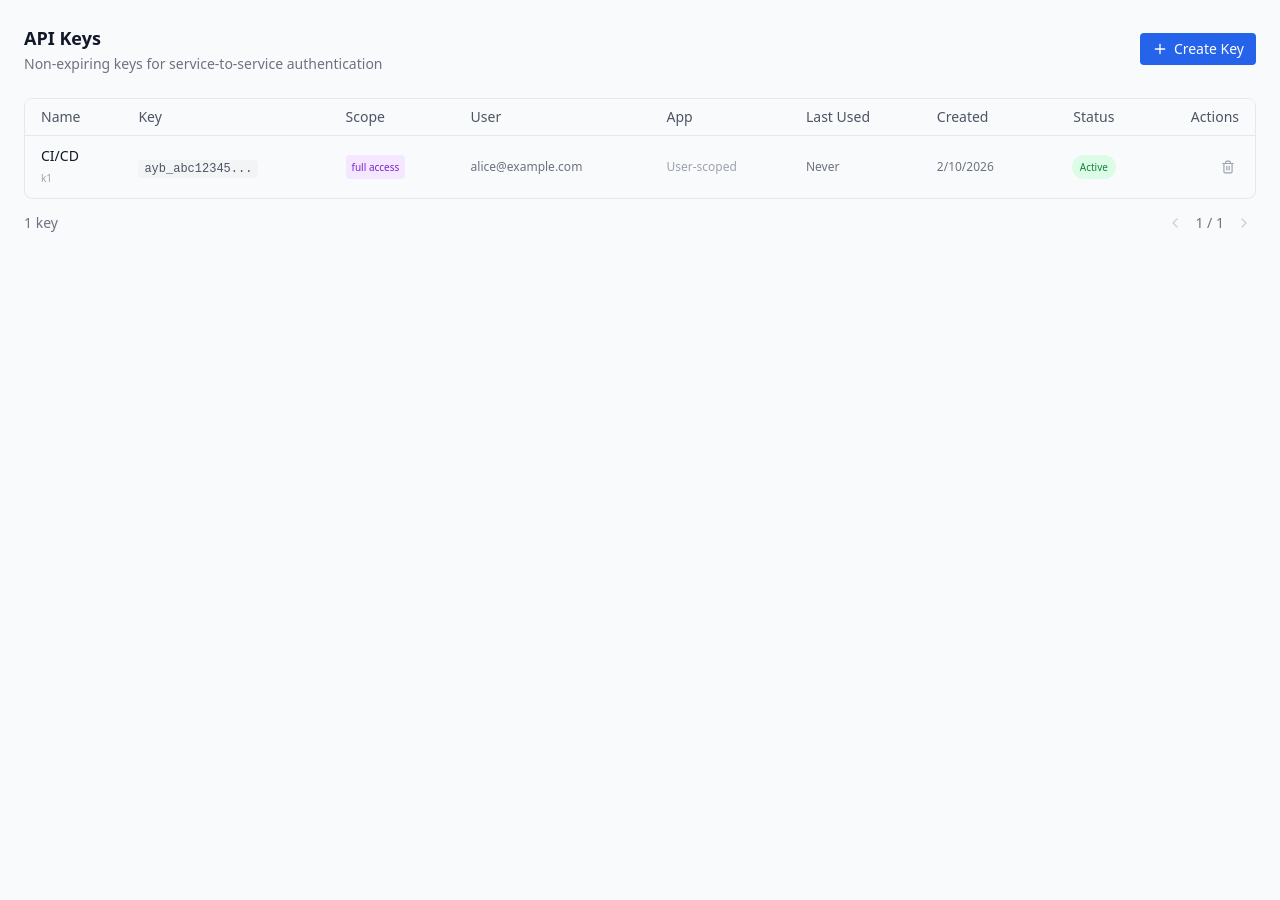
Test: ApiKeys › cancel on revoke dialog closes it
Check: the text "CI/CD" is shown, box [41,146,79,165]
Click the button titled "Revoke key" at (1228, 167), box [1217,156,1239,178]
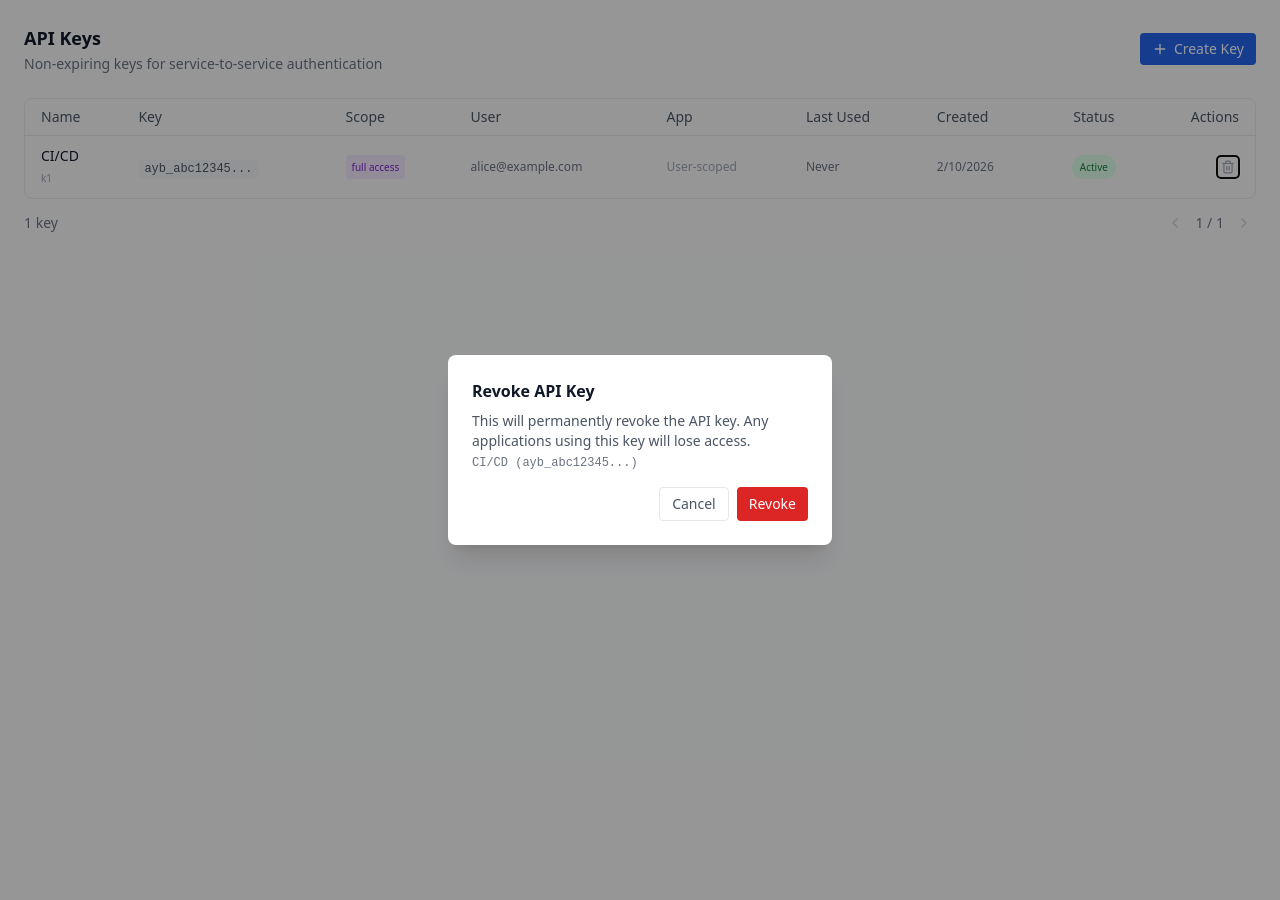
Check: the heading "Revoke API Key" is shown, box [472,380,595,402]
Click the button "Cancel" at (694, 504), box [659,487,729,521]
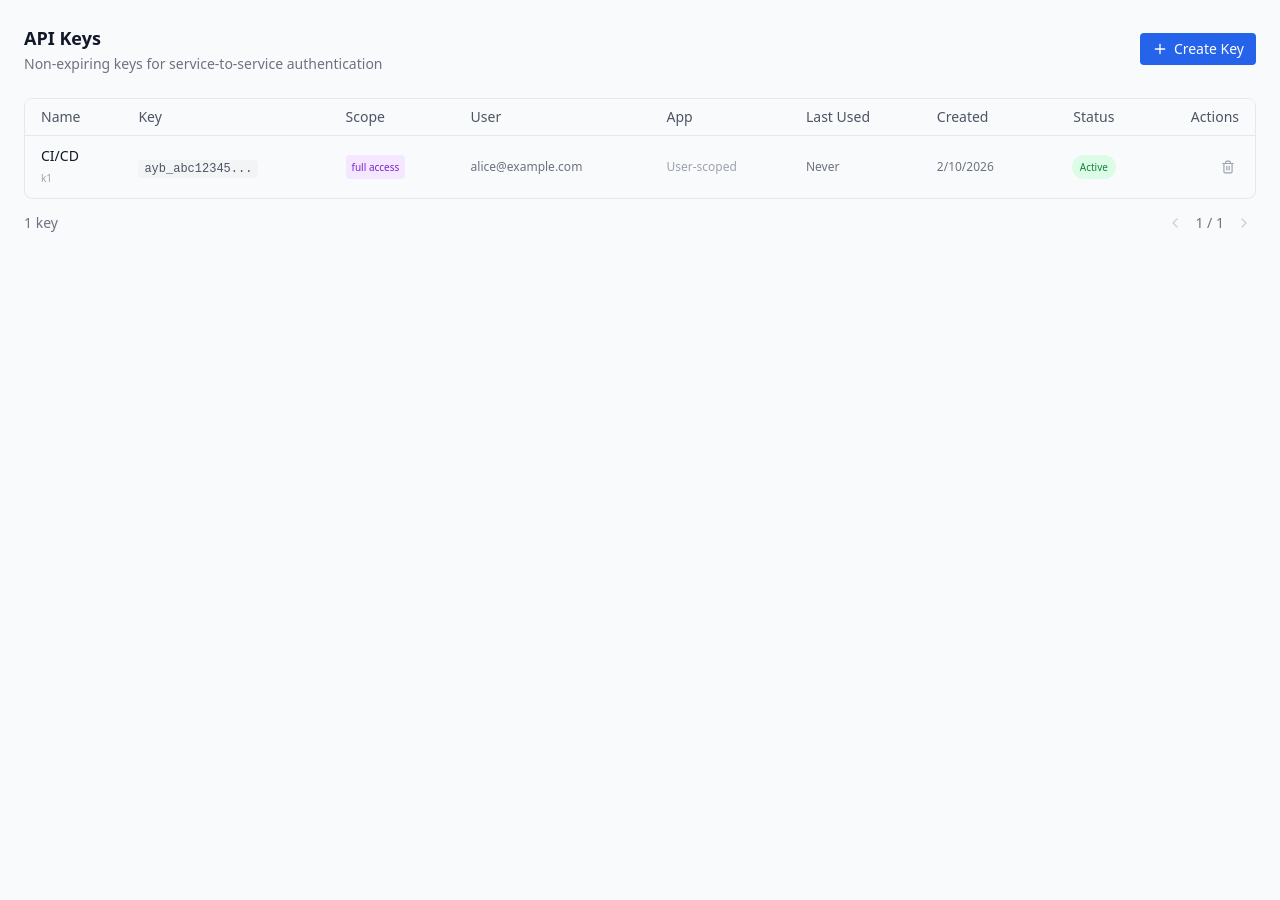
Check: the heading "Revoke API Key" is gone
